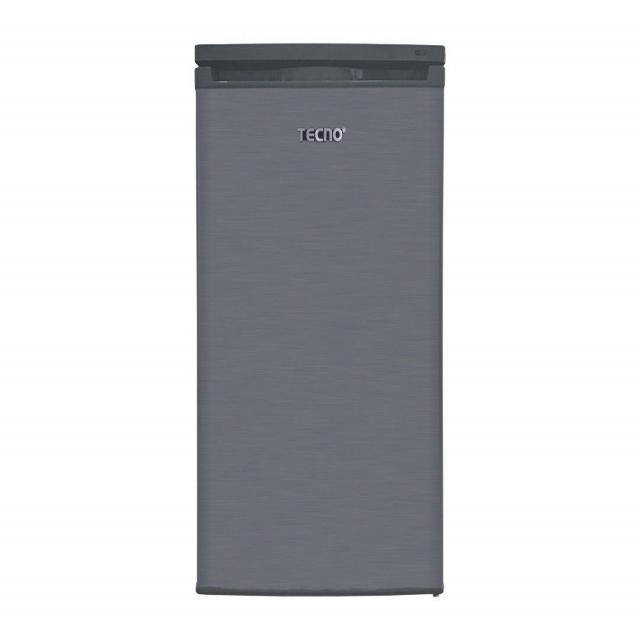refrigerator: (195, 42, 445, 598)
